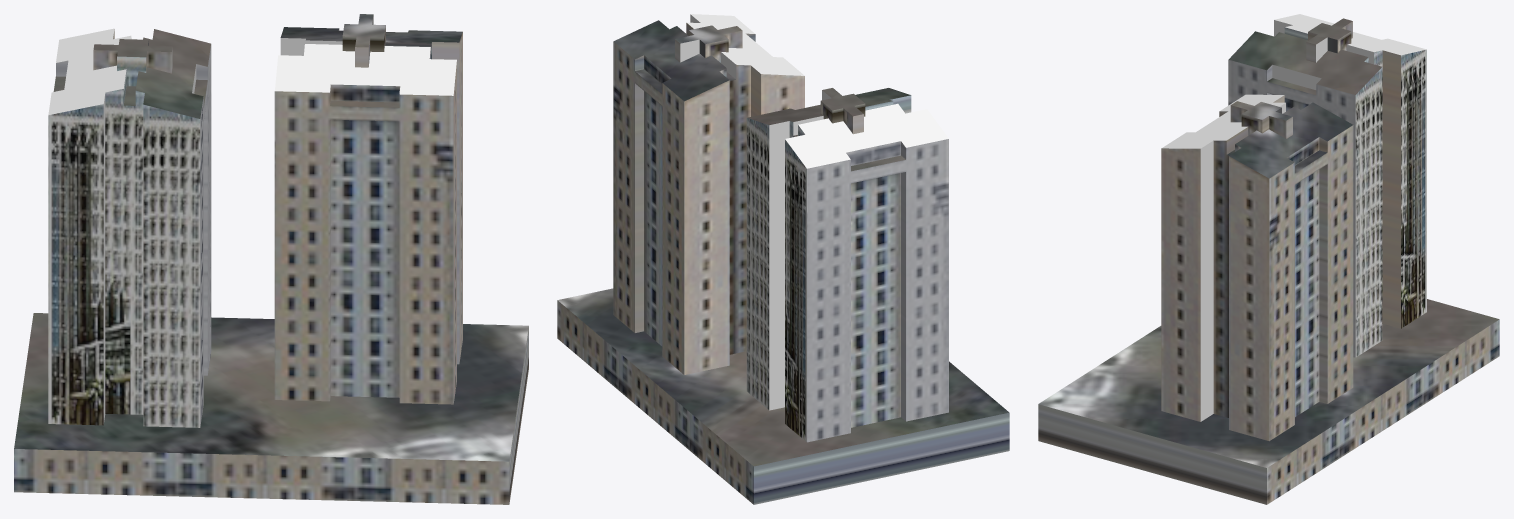
Rendered from Edificios.fbx.
3 renders of one model, left to right at view 1: azimuth 30°, elevation 25°; view 2: azimuth 150°, elevation 25°; view 3: azimuth 270°, elevation 25°, orthographic. The views are drawn at different scales.
Visible parts, largest first — view 1: Model; view 2: Model; view 3: Model.
Part boxes in pixels (x1,y1,x2,y2): Model: [14, 14, 528, 504]; Model: [557, 14, 1009, 504]; Model: [1038, 14, 1499, 504].
Size of the model in its own units: 76.43 by 54.35 by 70.08.
